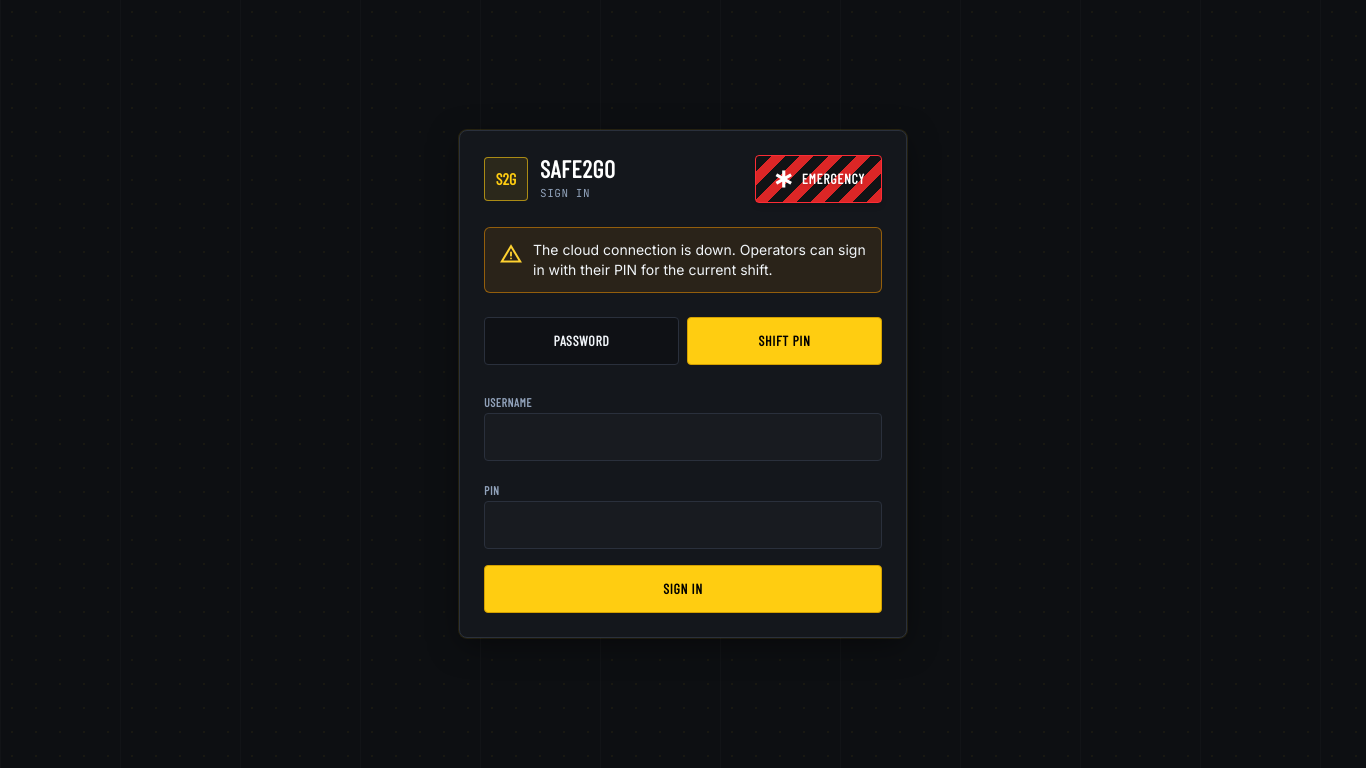
App › opens emergency guidance with one tap, even before login
This screenshot has width=1366, height=768.
Click the button "Emergency". click: {"x": 818, "y": 179}
box: [755,155,882,203]
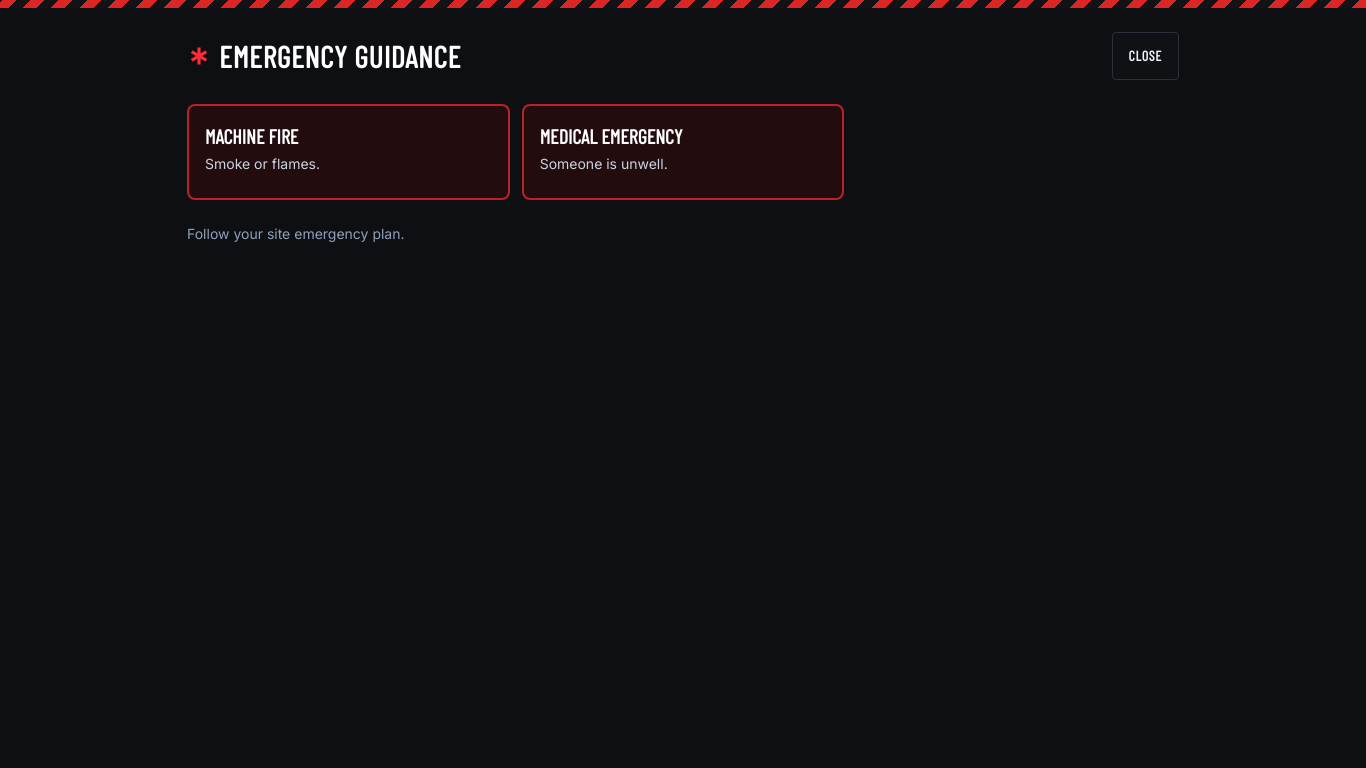
Click the button "Machine fire Smoke or flames.". click: {"x": 252, "y": 136}
box: [187,104,510,200]
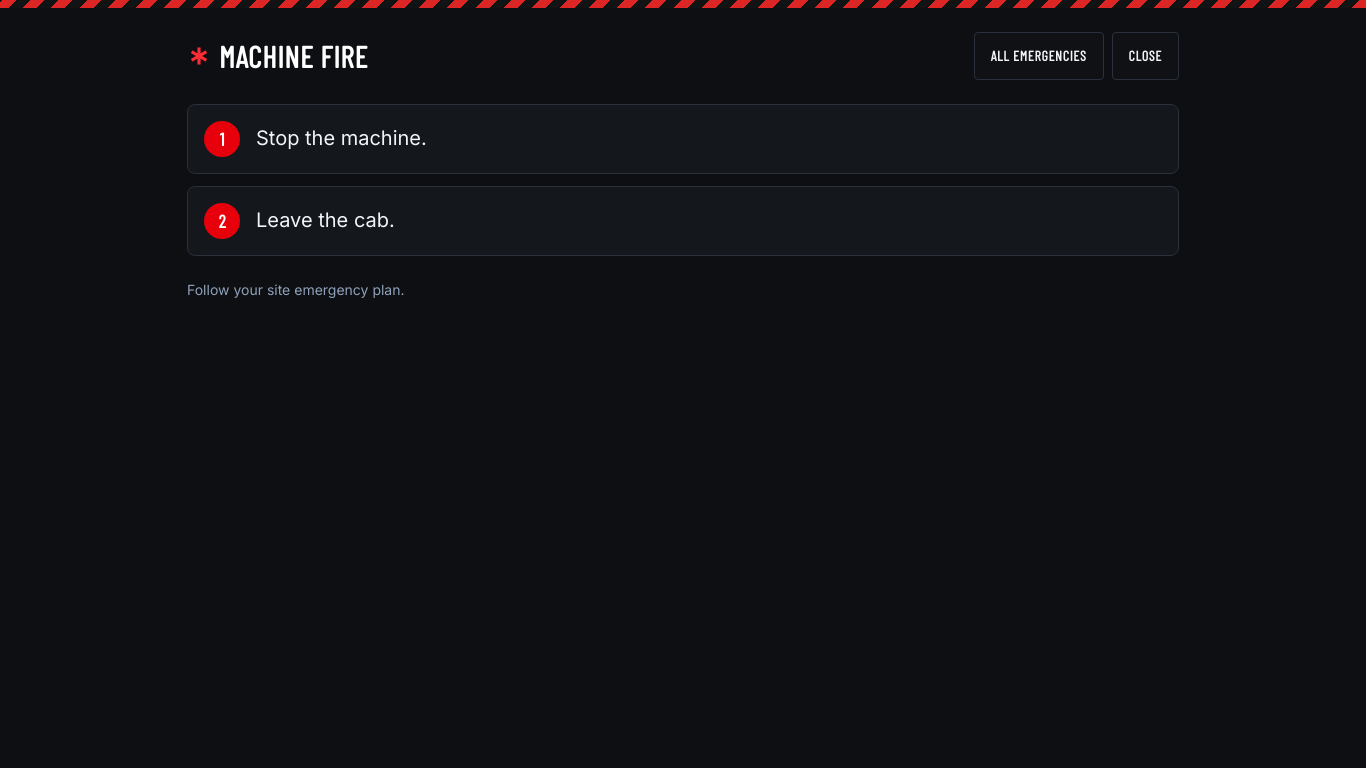
expect the text "Stop the machine." is shown: met, box [256,125,427,153]
Click the button "Close". click: {"x": 1145, "y": 56}
box: [1112,32,1179,80]
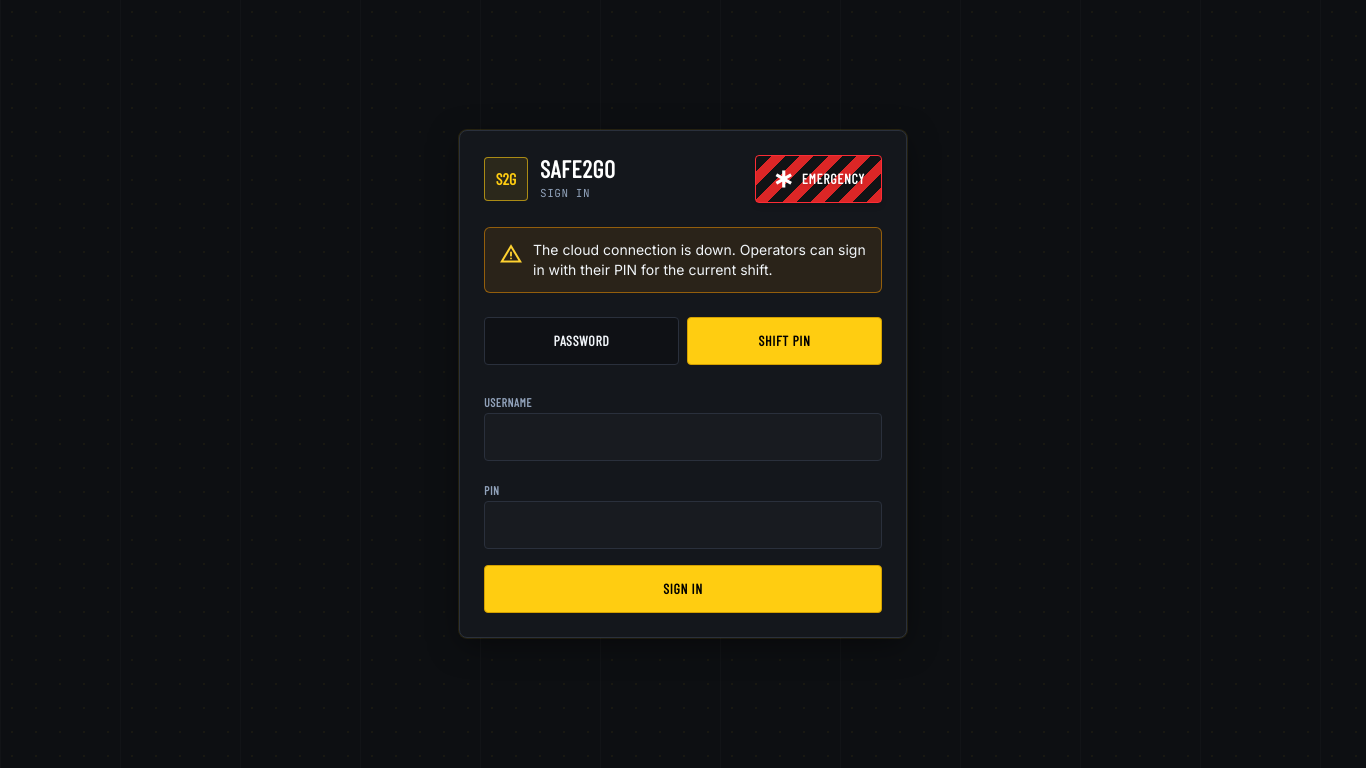
expect the dialog is gone: met
